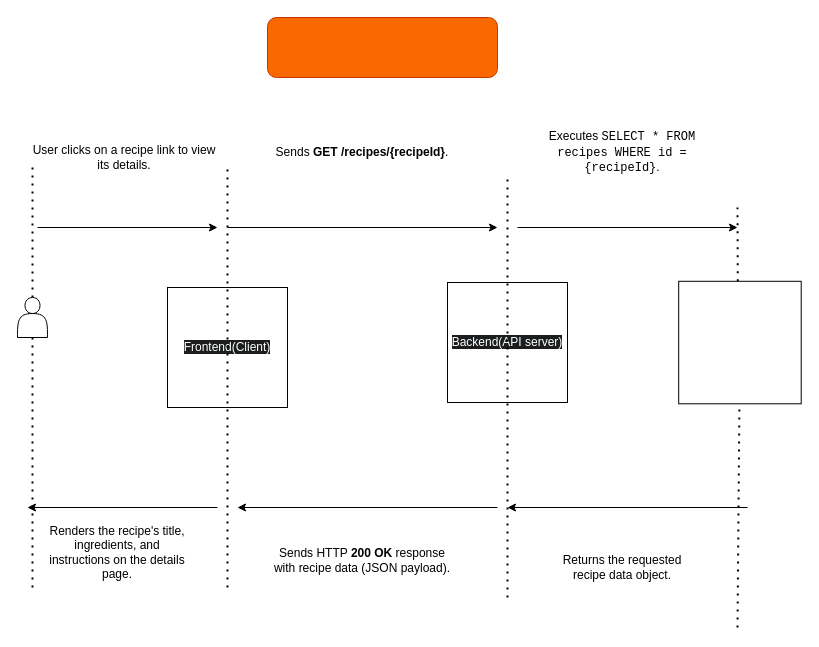
The diagram is 819 pixels wide and 647 high, and some of its shapes have lost their labels. Each missing label, with the centre of its shape:
DataBase(fx, MYSQL): (739,342)
Viewing a Specific Recipe (Get): (382,47)
